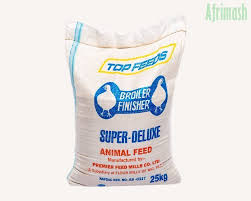feed_bag: (55, 9, 190, 191)
